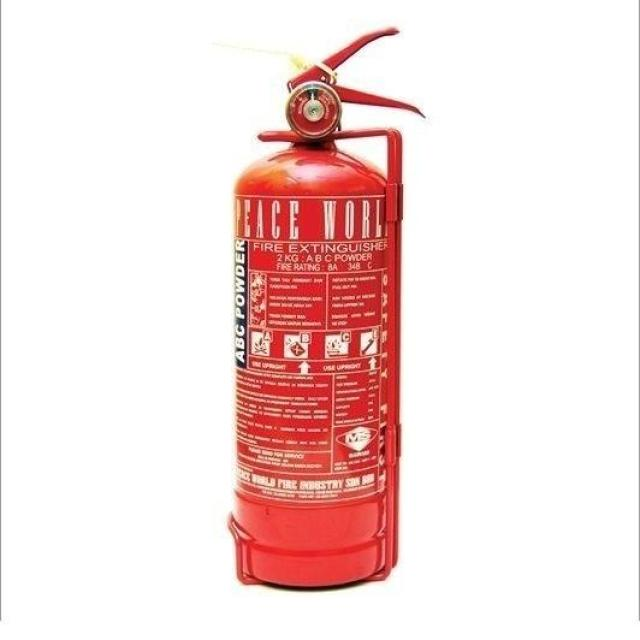fire_extinguisher: (224, 22, 429, 595)
